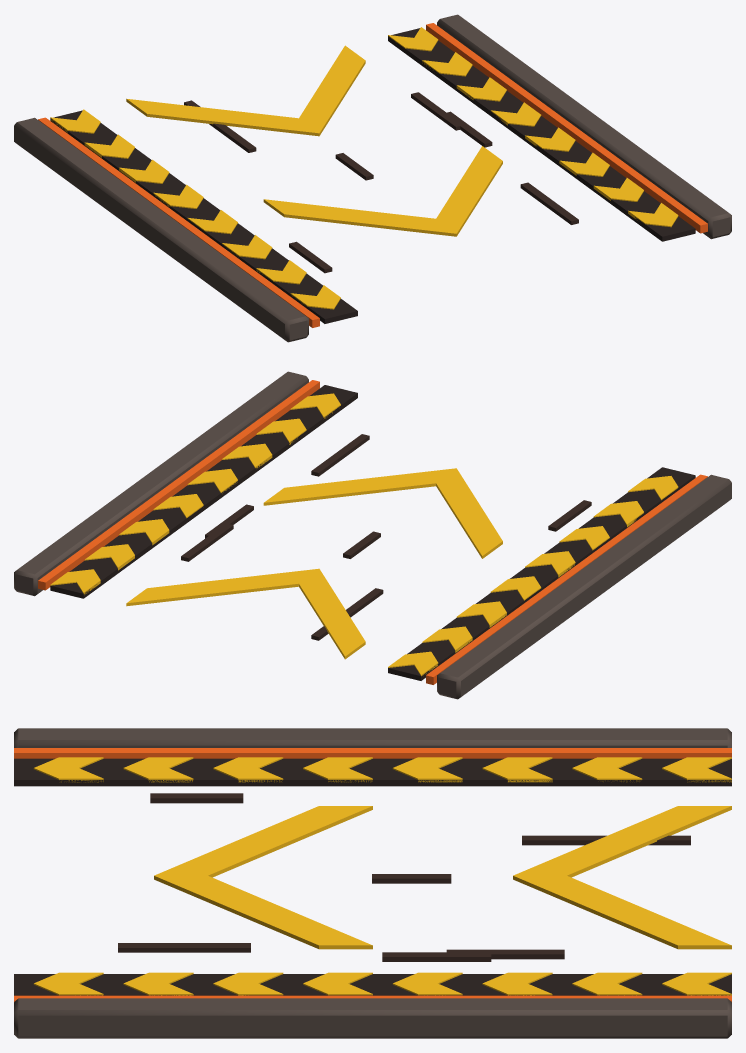
Rendered from trap_crusher_lane__upper.glb.
3 renders of one model, top to bottom at view 1: azimuth 30°, elevation 25°; view 2: azimuth 150°, elevation 25°; view 3: azimuth 270°, elevation 25°, orthographic. The views are drawn at different scales.
Parts seen in each view (by area): view 1: Lane; view 2: Lane; view 3: Lane.
Boxes of the visible parts, <box> form: Lane: <box>14,14,731,342</box>; Lane: <box>14,371,731,699</box>; Lane: <box>14,728,731,1038</box>.
Bounding box in the file's own units: 0.94 × 0.044 × 1.
